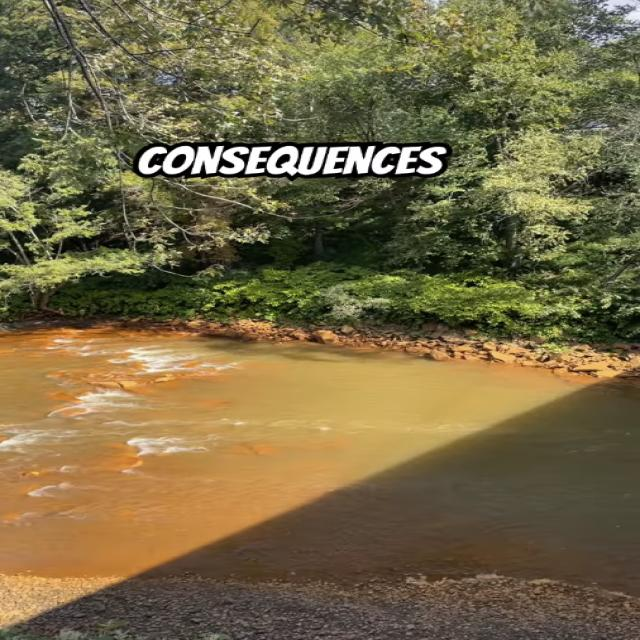yellow_boy: (0, 328, 639, 591)
